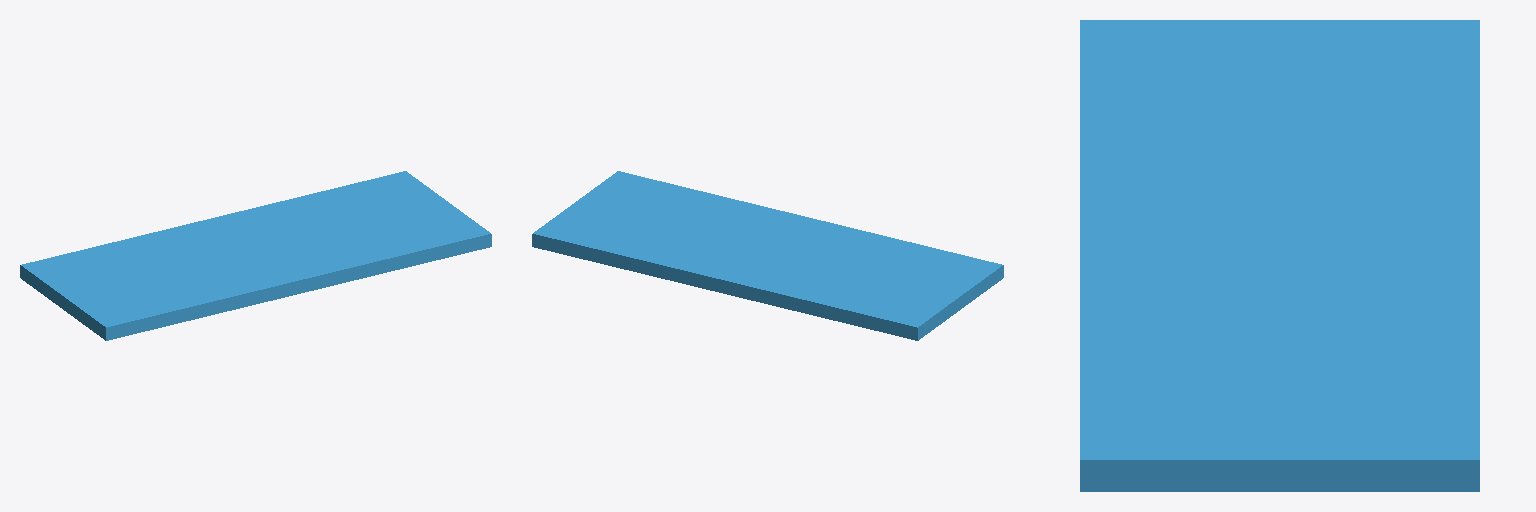
The robot description file, URDF, robot "cylinder_60":
    
    <robot name="cylinder_60">
        <link name="cylinder_60">    
            <fem>
                <origin rpy="0.0 0.0 0.0" xyz="0 0 0" />
                <density value="100" />
                <youngs value="881"/>
                <poissons value="0.3" />
                <damping value="0.0" />
                <attachDistance value="0.01" />
                <tetmesh filename="[local-path]/sim_data/Custom/Custom_mesh/multi_cylinder_1kPa/cylinder_60.tet" />
                <scale value="0.5"/>
            </fem>
        </link>

        <link name="fix_frame">
            <visual>
                <origin xyz="0.0 0.0 10.05811530961957"/>
                <geometry>
                    <box size="0.15 0.05776136989575607 0.005"/>
                </geometry>
            </visual>
            <collision>
                <origin xyz="0.0 0.0 0.05811530961956951"/>
                <geometry>
                    <box size="0.15 0.05776136989575607 0.005"/>
                </geometry>
            </collision>
            <inertial>
                <mass value="500000"/>
                <inertia ixx="0.05" ixy="0.0" ixz="0.0" iyy="0.05" iyz="0.0" izz="0.05"/>
            </inertial>
        </link>
        
        <joint name = "attach" type = "fixed">
            <origin xyz = "0.0 0.0 0.0" rpy = "0 0 0"/>
            <parent link ="cylinder_60"/>
            <child link = "fix_frame"/>
        </joint>  




    </robot>
    

--- Facts derived from the render (not from the file) ---
Views: 3 orthographic renders of the robot side by side, from view 1: azimuth 30°, elevation 25°; view 2: azimuth 150°, elevation 25°; view 3: azimuth 270°, elevation 25°.
Model cylinder_60 with 2 links and 1 joints (1 fixed), rooted at cylinder_60, posed every joint at zero.
Visible links, largest first — view 1: fix_frame; view 2: fix_frame; view 3: fix_frame.
Boxes of the visible links, left/top/right/bottom form: fix_frame: left=20, top=171, right=491, bottom=340; fix_frame: left=532, top=171, right=1003, bottom=340; fix_frame: left=1080, top=20, right=1479, bottom=491.
Bounding box of the posed robot: 0.15 × 0.0578 × 0.005 m (x, y, z).
Geometry: primitives only (box / cylinder / sphere), no mesh files.
